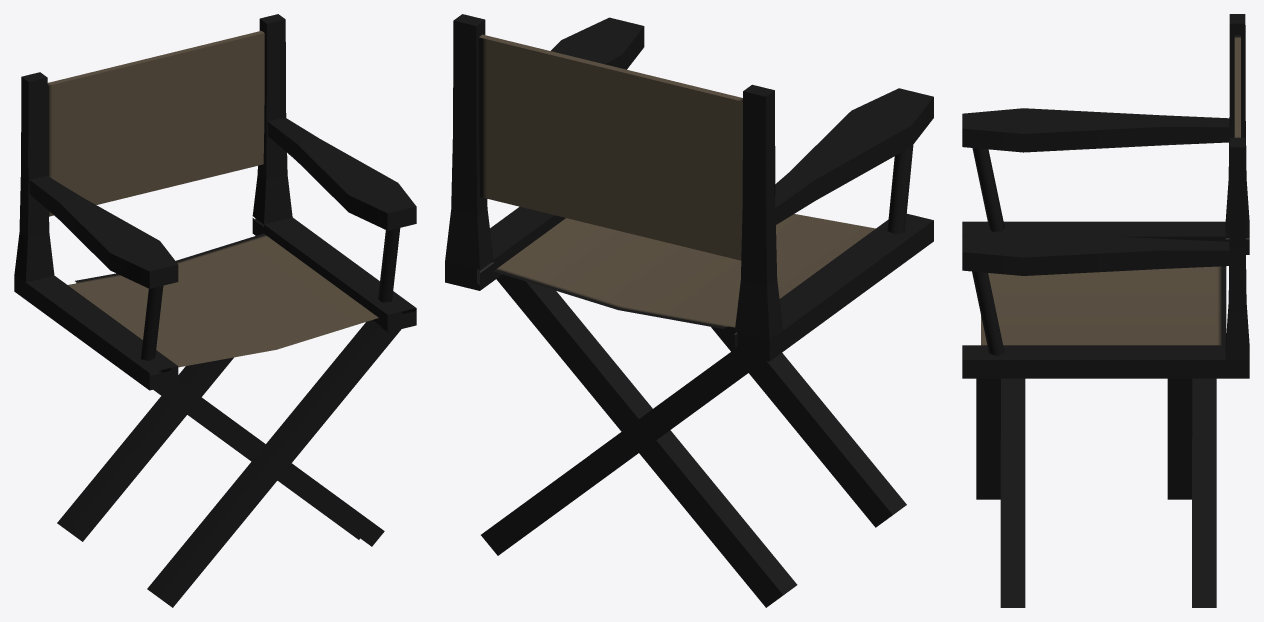
Rendered from SM_DirectorsChair.FBX.
3 views of the same model, side by side, from view 1: azimuth 30°, elevation 25°; view 2: azimuth 150°, elevation 25°; view 3: azimuth 270°, elevation 25° (orthographic). The views are drawn at different scales.
Visible parts, largest first — view 1: DirectorsChair; view 2: DirectorsChair; view 3: DirectorsChair.
Part boxes in pixels (x1=…): DirectorsChair: x1=14, y1=14, x2=416, y2=607; DirectorsChair: x1=445, y1=14, x2=933, y2=607; DirectorsChair: x1=962, y1=14, x2=1249, y2=607.
Bounding box in the file's own units: 54.01 × 79.71 × 43.91.
Materials: 1 (1 with a texture image).
